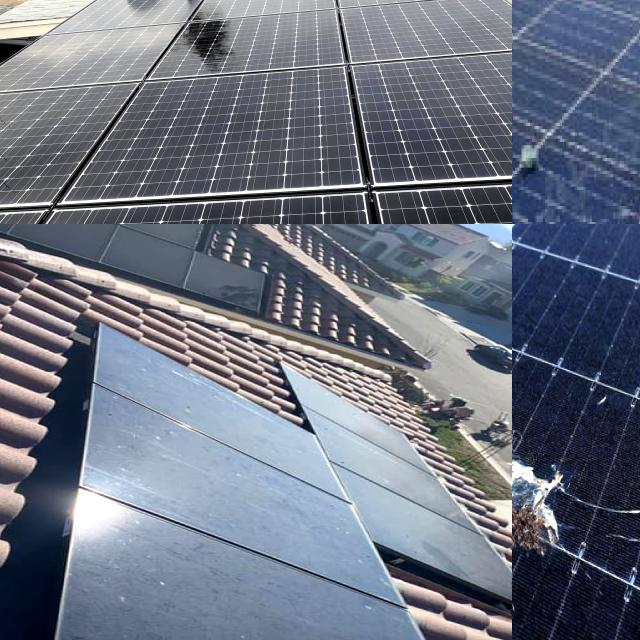bird: (512, 414, 638, 568)
crack: (154, 89, 354, 172), (181, 19, 391, 88), (204, 0, 351, 31)
dust: (374, 346, 512, 438), (406, 261, 512, 291)
